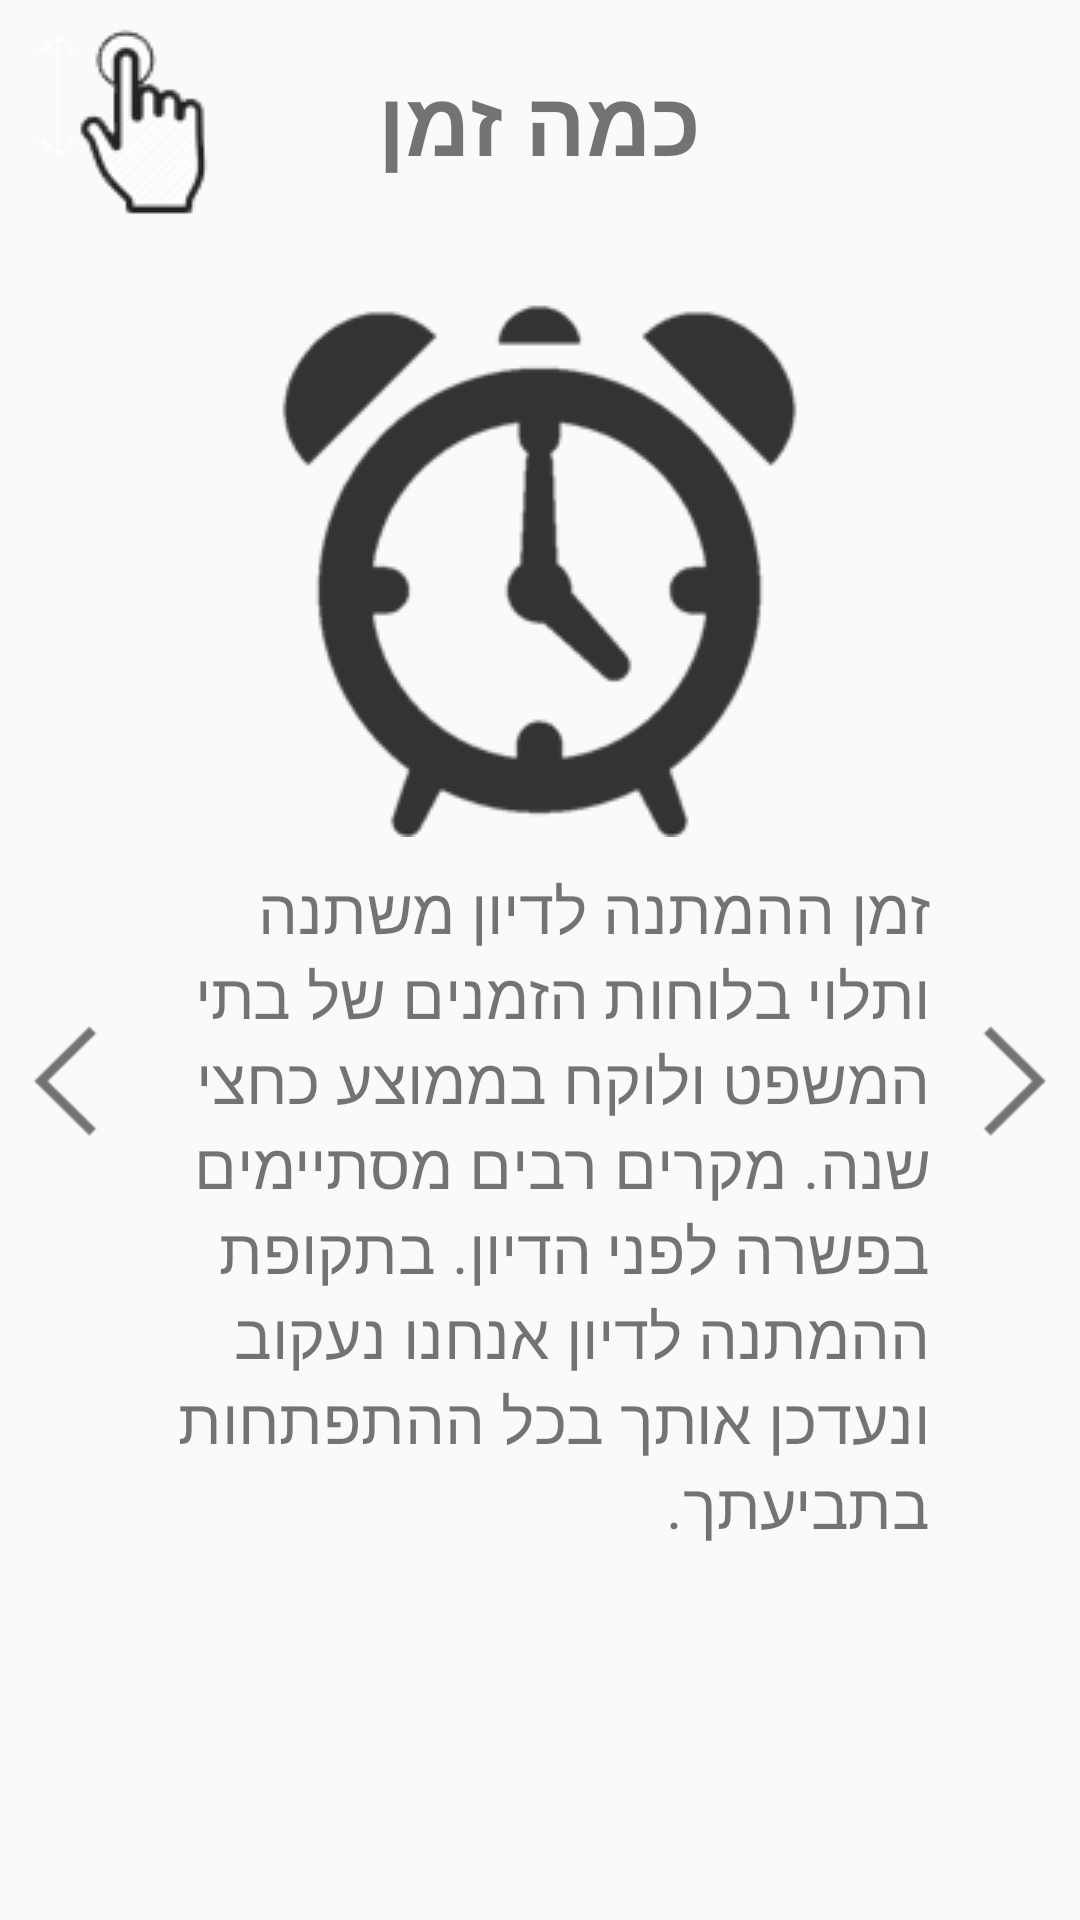

Icons on this 1080 x 1920 Android screen, each with its box as bbox=(x1, y1, x2, y2):
navarrow: bbox=(984, 1027, 1046, 1136)
navarrowleft: bbox=(34, 1027, 96, 1136)
slidingwhiten: bbox=(80, 30, 207, 214)
